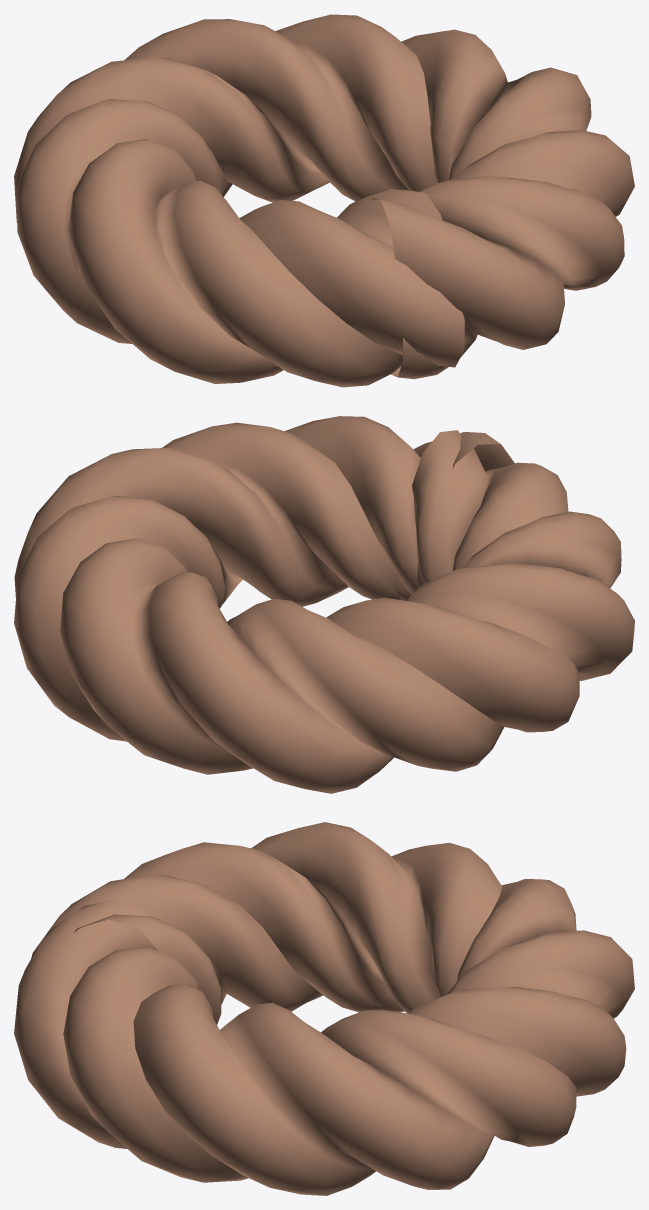
File: rope_coil_small.glb
3 views of the same model, one above another, from view 1: azimuth 30°, elevation 25°; view 2: azimuth 150°, elevation 25°; view 3: azimuth 270°, elevation 25° (orthographic).
Parts seen in each view (by area): view 1: Circle.008; view 2: Circle.008; view 3: Circle.008.
Part boxes in pixels (left/top/right/bottom): Circle.008: left=14, top=14, right=634, bottom=387; Circle.008: left=14, top=416, right=634, bottom=793; Circle.008: left=14, top=822, right=634, bottom=1195.
Bounding box in the file's own units: 0.4493 × 0.1441 × 0.4543.
